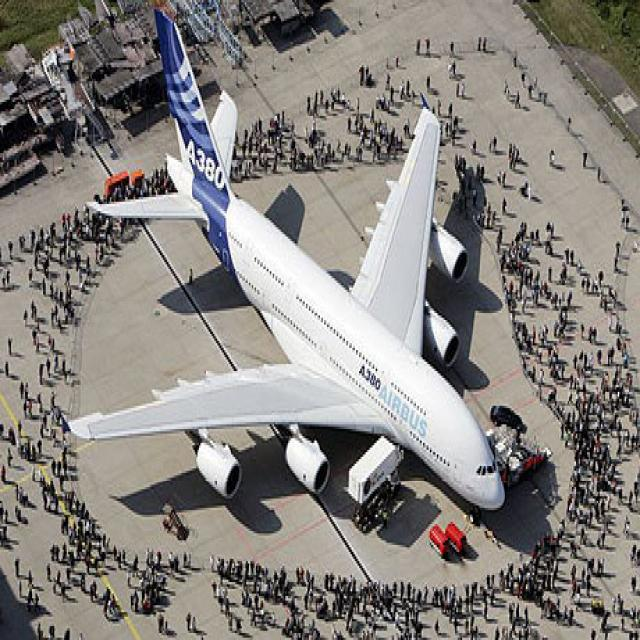A380: (71, 16, 505, 536)
